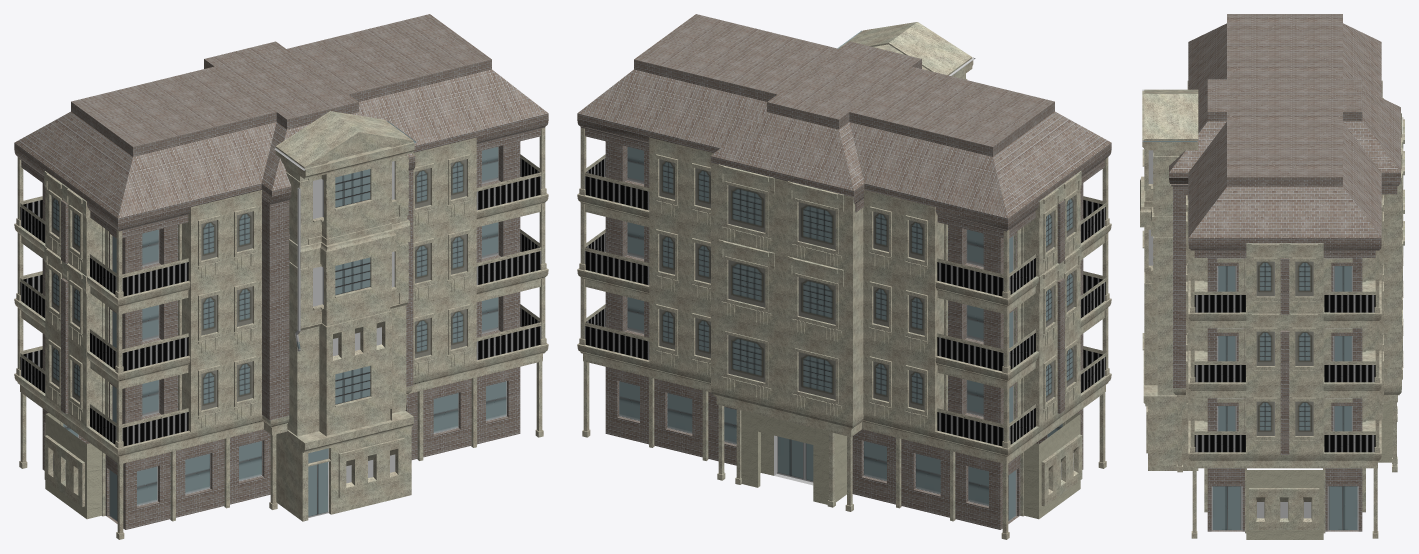
Rendered from city3.obj.
3 renders of one model, left to right at view 1: azimuth 30°, elevation 25°; view 2: azimuth 150°, elevation 25°; view 3: azimuth 270°, elevation 25°, orthographic. The views are drawn at different scales.
Parts seen in each view (by area): view 1: Cube.010_Cube; view 2: Cube.010_Cube; view 3: Cube.010_Cube.
Part boxes in pixels (box(x1,y1,x2,y2)): Cube.010_Cube: box(14, 14, 548, 539); Cube.010_Cube: box(577, 14, 1111, 539); Cube.010_Cube: box(1140, 14, 1404, 539).
Size of the model in its own units: 24.33 by 20.1 by 13.69.
Materials: 15 (15 with a texture image).
